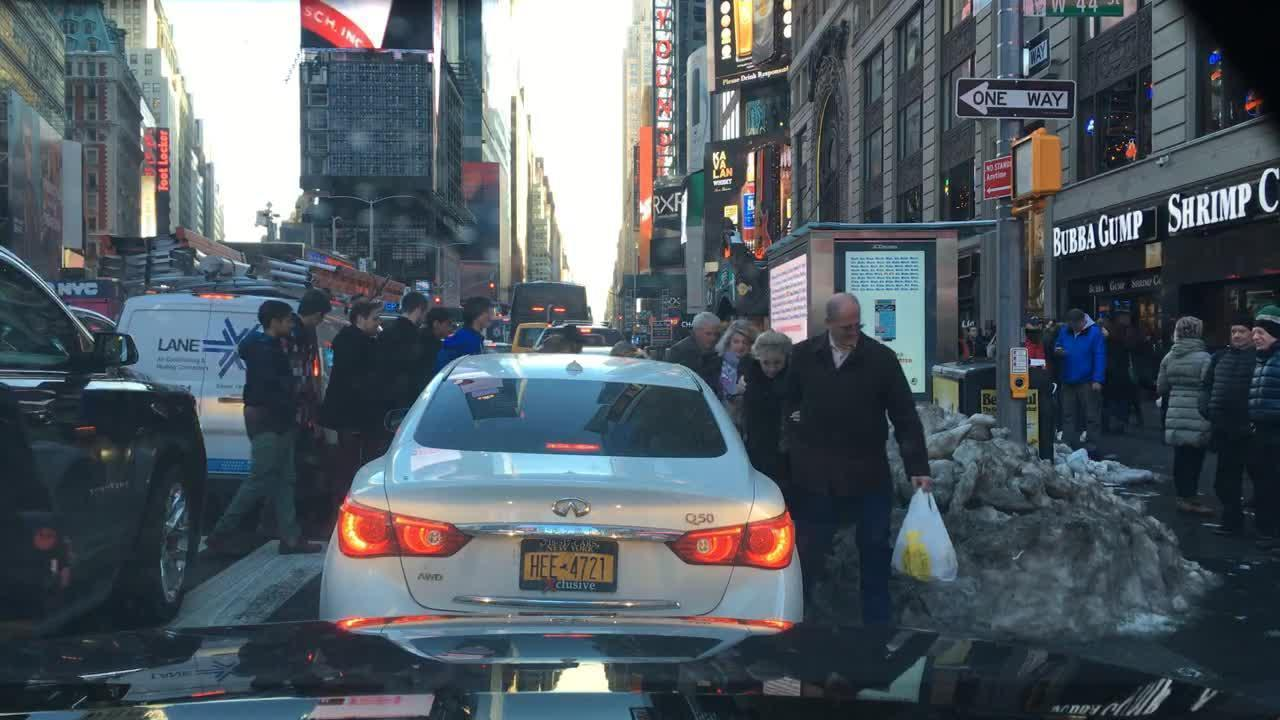Infiniti: (547, 493, 595, 520)
